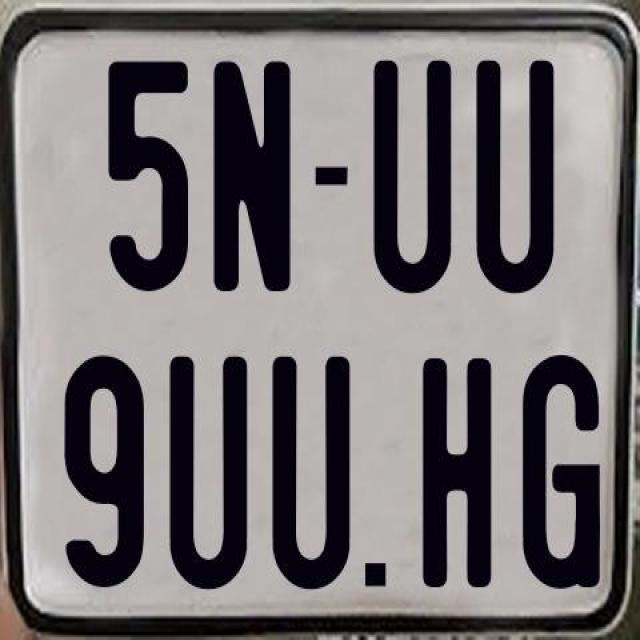5: (106, 56, 188, 293)
9: (64, 356, 151, 596)
G: (518, 353, 596, 588)
H: (420, 358, 490, 590)
N: (213, 56, 292, 286)
U: (476, 61, 558, 301), (370, 56, 450, 298), (168, 355, 251, 587), (268, 352, 348, 590)
